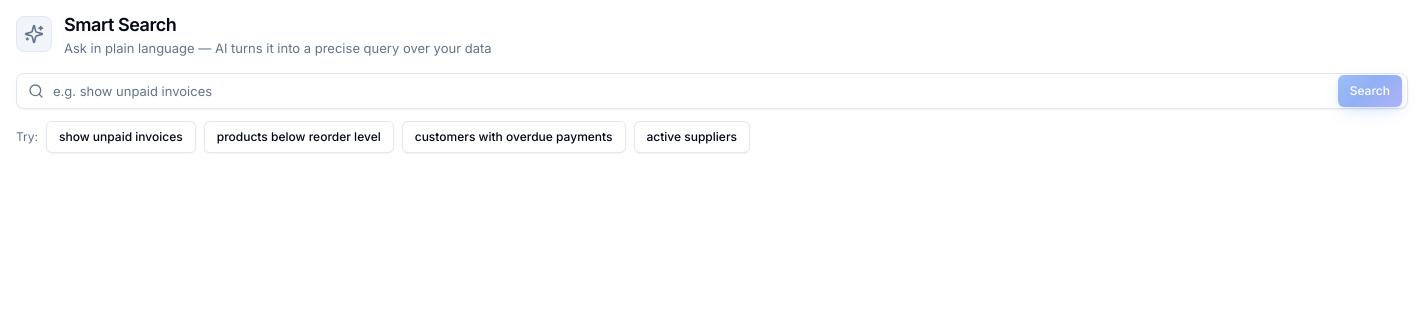
SmartSearchView › runs a search and renders the interpreted intent + results
Type "show unpaid invoices" into the search field named "Smart search query". click: (712, 91)
box: [16,73,1408,109]
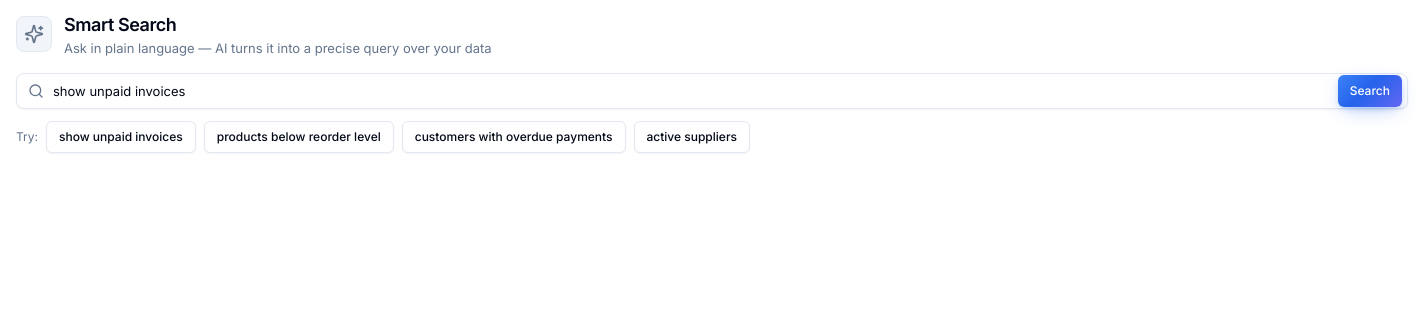
Click the button "Search". click: (1370, 91)
box: [1338,75,1402,107]
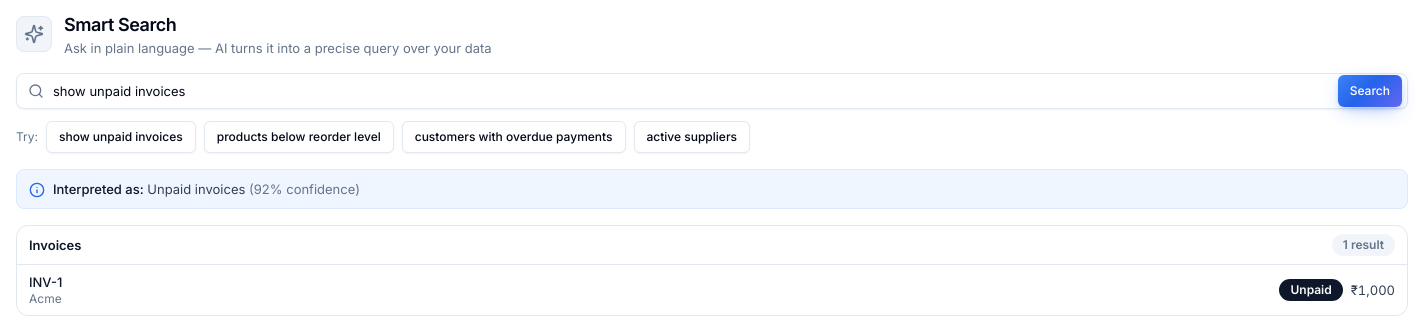
expect the text "Interpreted as:" is shown: met, box [53,181,144,197]
expect the text "Unpaid invoices" is shown: met, box [147,181,245,197]
expect the text "INV-1" is shown: met, box [29,273,62,291]
